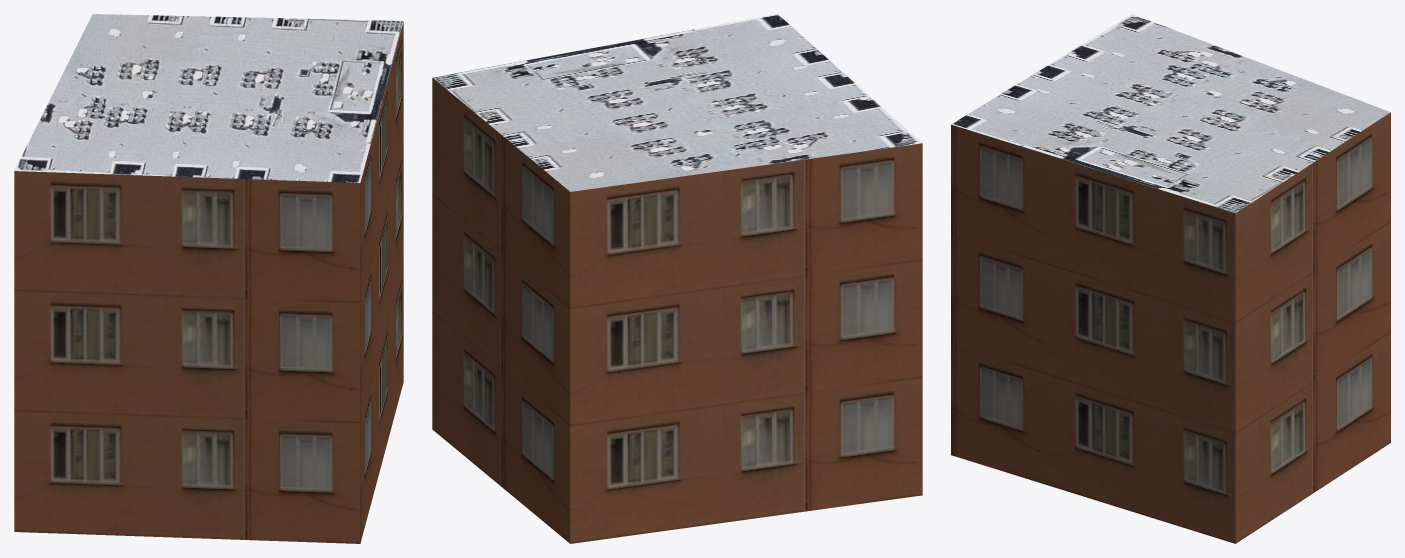
The model's file is ResTex__2447.fbx.
The picture shows the model from 3 angles, left to right: view 1: azimuth 30°, elevation 25°; view 2: azimuth 150°, elevation 25°; view 3: azimuth 270°, elevation 25°; orthographic projection. The views are drawn at different scales.
Parts seen in each view (by area): view 1: CityEngineMaterial_20_m, CityEngineMaterial_8_m; view 2: CityEngineMaterial_20_m, CityEngineMaterial_8_m; view 3: CityEngineMaterial_20_m, CityEngineMaterial_8_m.
Boxes of the visible parts, x1=… form: CityEngineMaterial_20_m: x1=14, y1=22, x2=403, y2=543; CityEngineMaterial_8_m: x1=14, y1=14, x2=403, y2=182; CityEngineMaterial_20_m: x1=432, y1=78, x2=922, y2=543; CityEngineMaterial_8_m: x1=433, y1=14, x2=921, y2=191; CityEngineMaterial_20_m: x1=951, y1=112, x2=1390, y2=543; CityEngineMaterial_8_m: x1=951, y1=14, x2=1390, y2=213.
Size of the model in its own units: 11.64 by 9 by 10.85.
2 materials, 2 textured.
